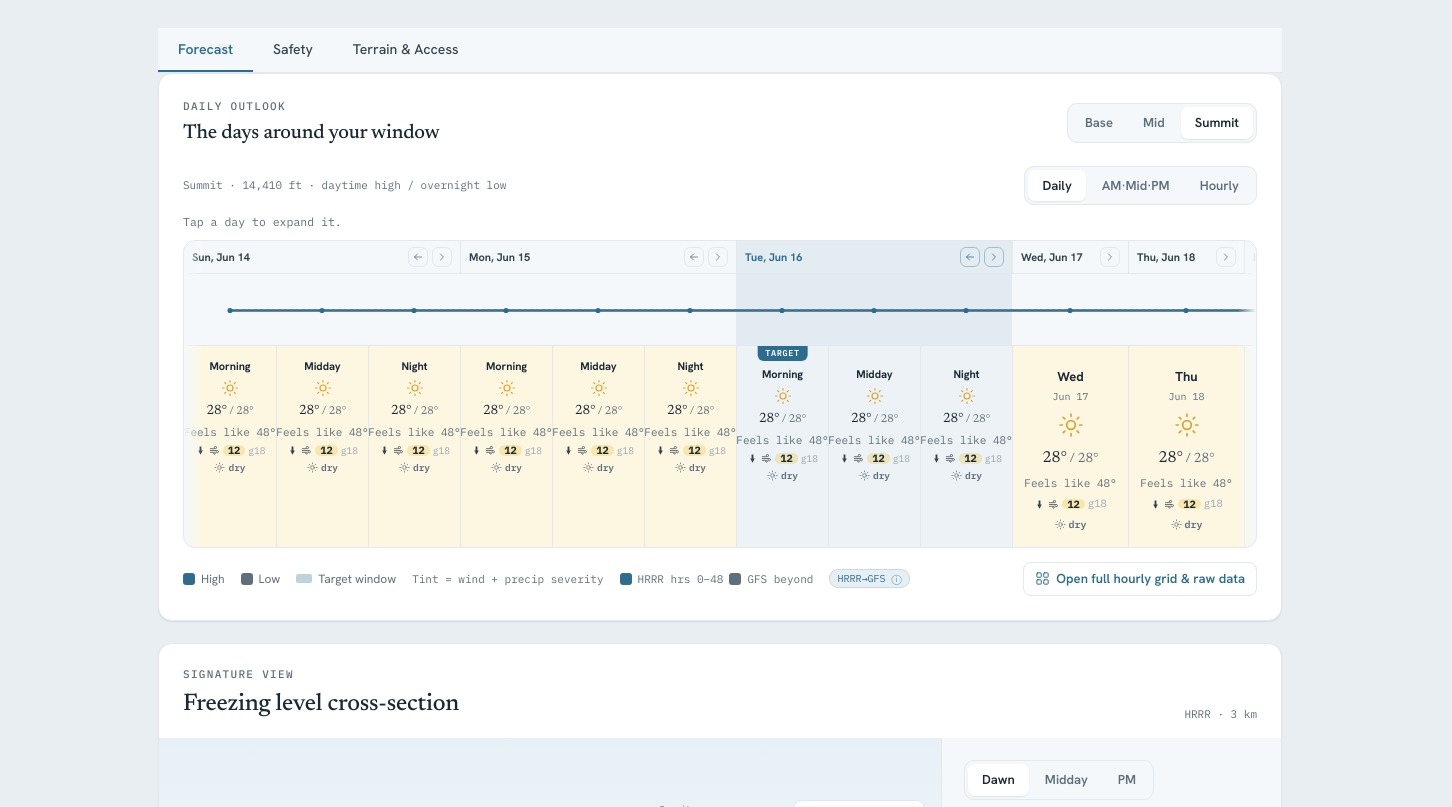
Test: MountainDetail — Safety tab › shows a loading Skeleton while a feed is loading with no data
This screenshot has width=1452, height=807.
Click the tab "Safety": click(293, 50) [253,28,333,72]
(page scrolled)
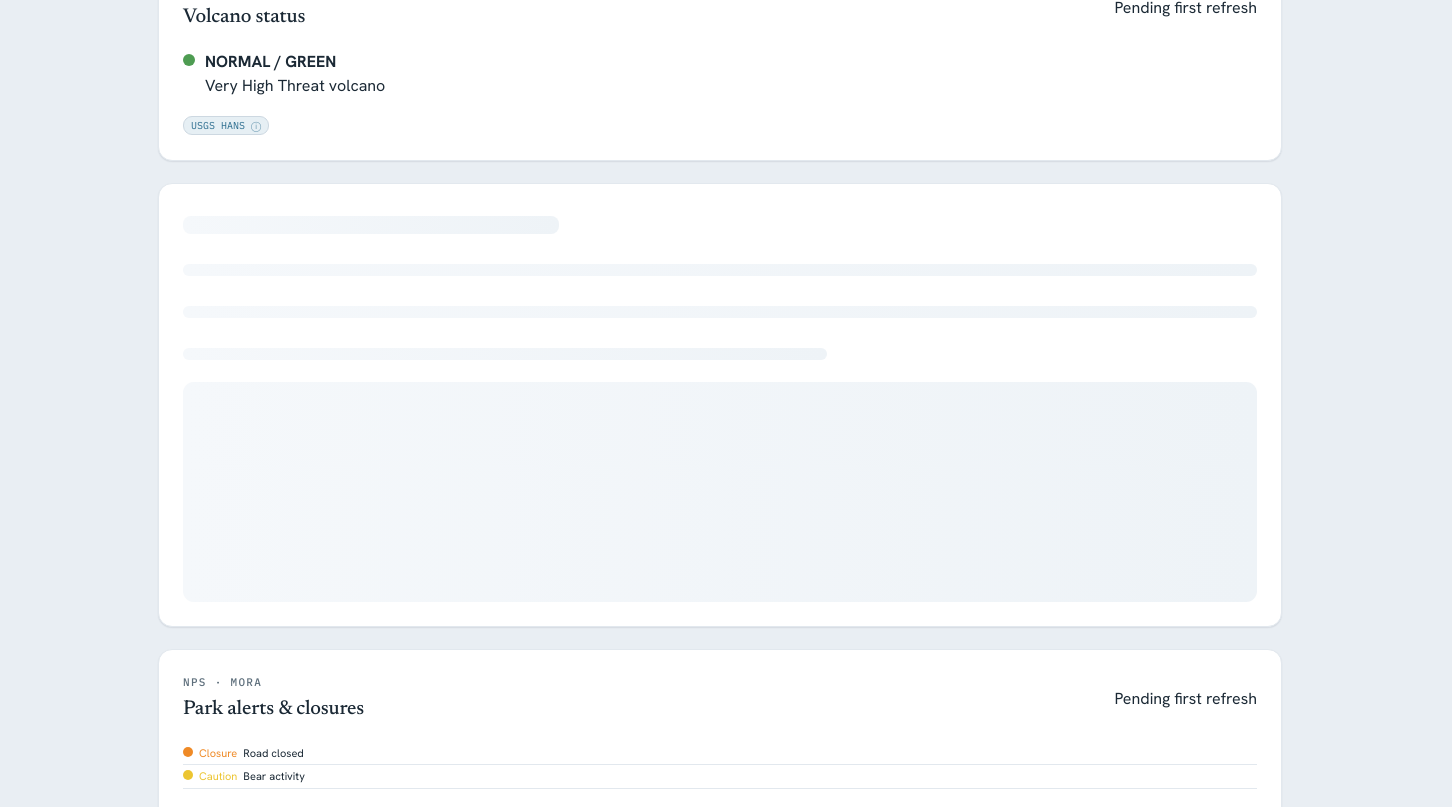
Check: the element with test id "skeleton-seismic" is shown, box [158,184,1282,628]
